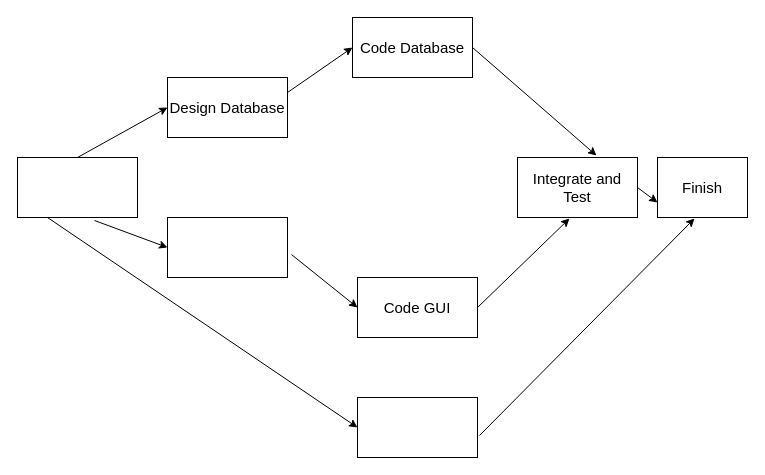
This 765x475 diagram has some shape labels left out. The centre of each missing label's shape, as x and y in pixels:
"Design GUI" belongs at point 227,247.
"Document" belongs at point 417,427.
"Requirement Specification" belongs at point 77,187.
